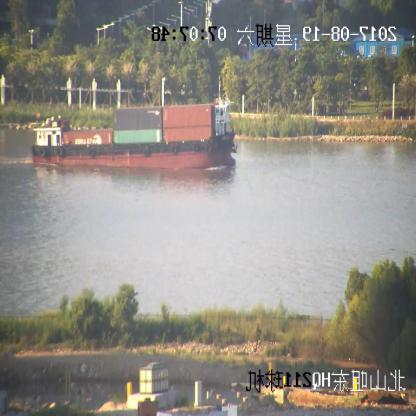Container Ship: (30, 94, 238, 172)
